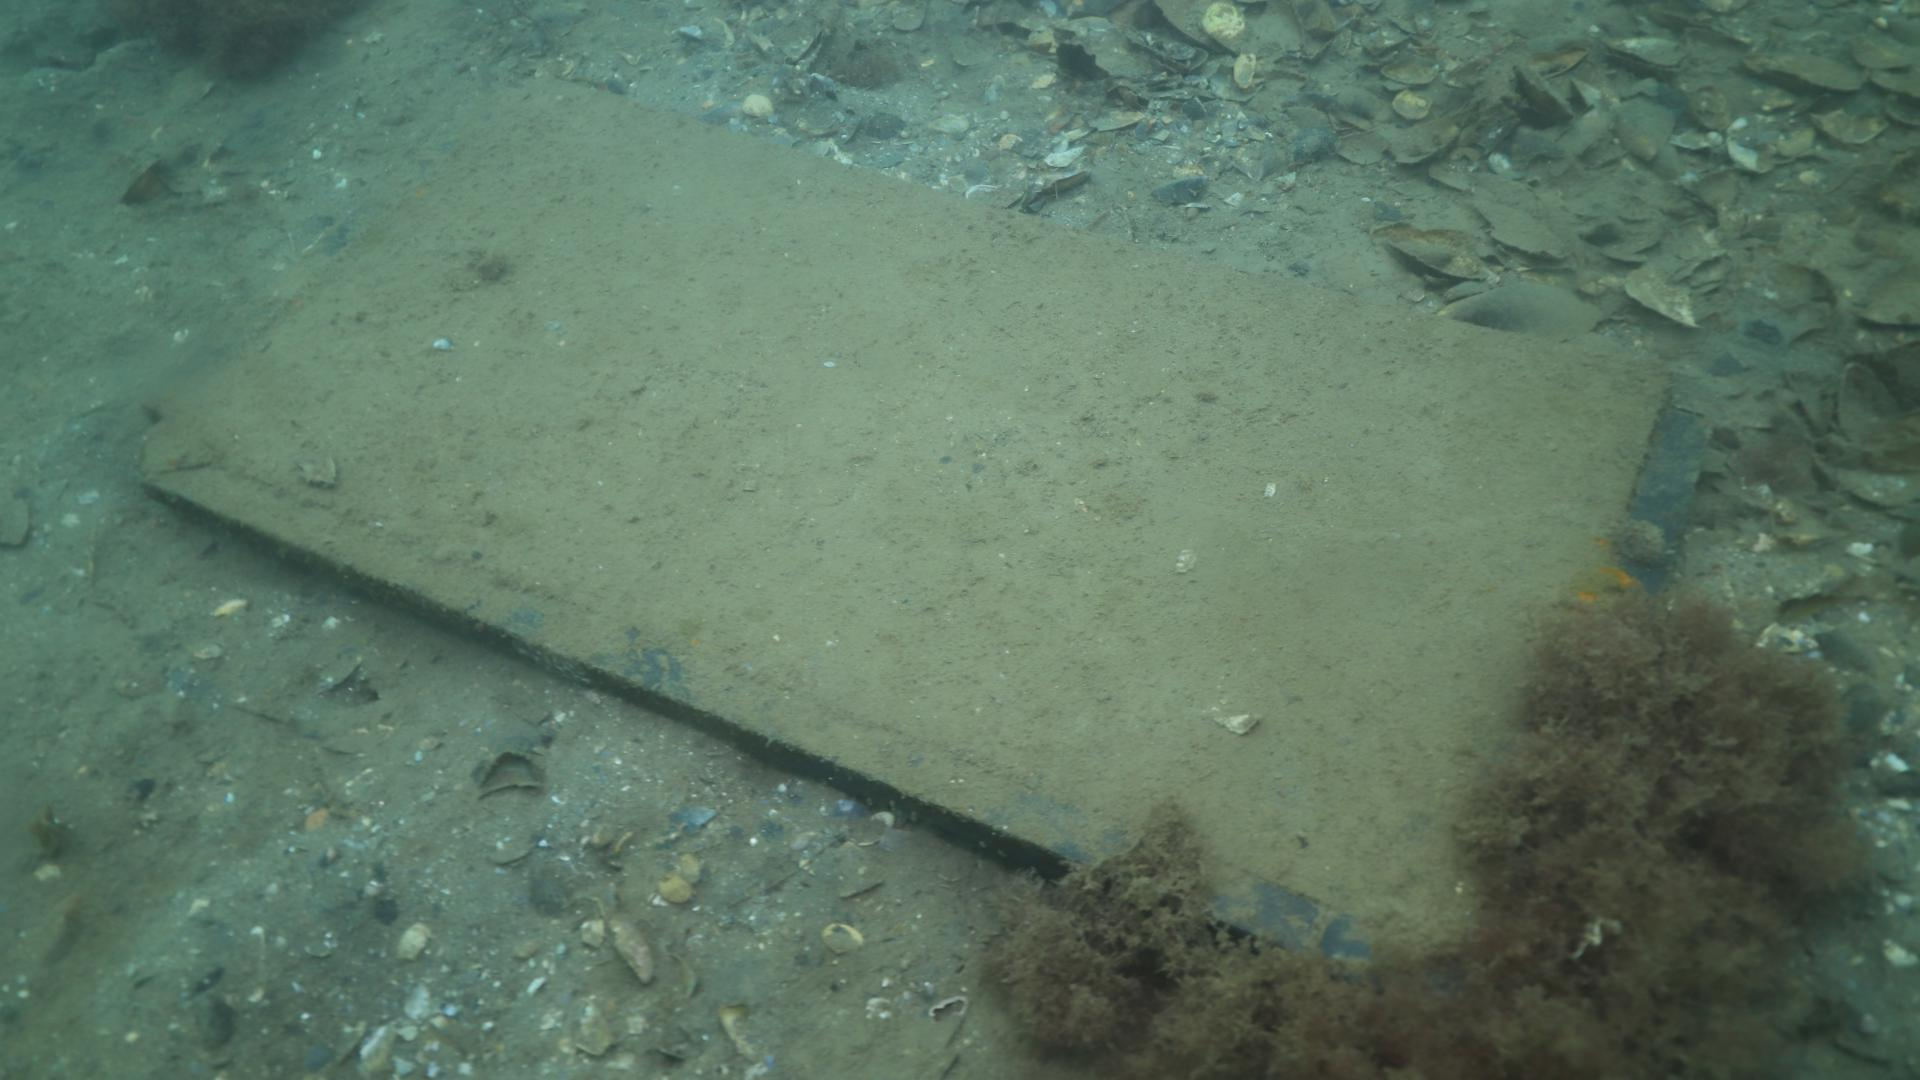wood: (141, 73, 1714, 967)
